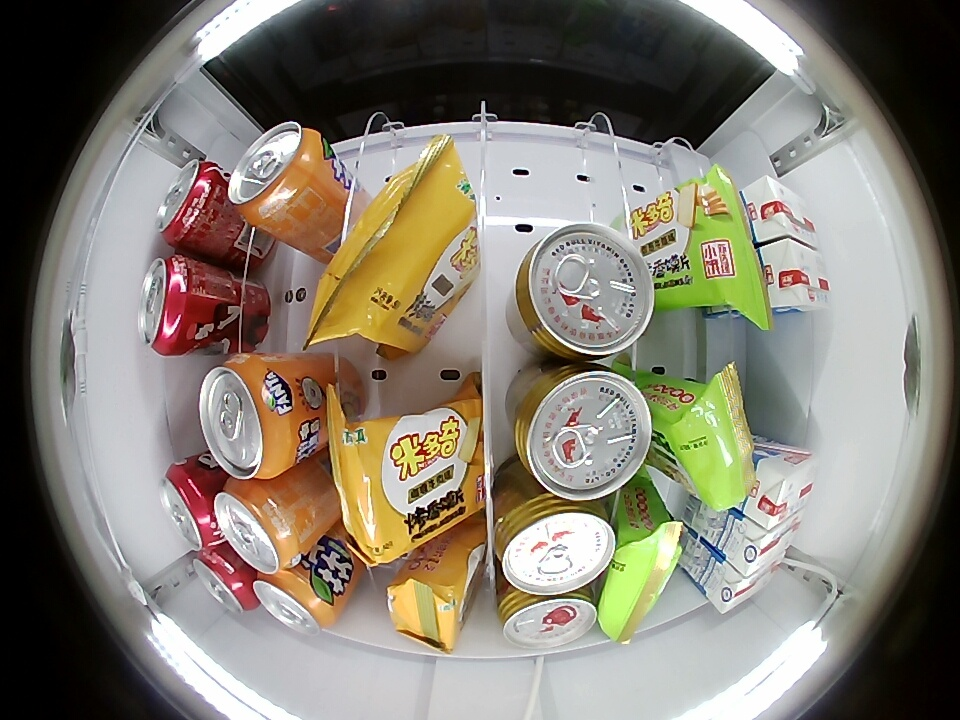fenda: (198, 355, 296, 480), (227, 121, 326, 225), (215, 476, 304, 573), (253, 569, 335, 635)
hongniu: (497, 587, 598, 650)
hongniu2: (513, 223, 654, 362), (512, 362, 652, 500), (496, 494, 616, 594)
kaomo_gali: (313, 154, 479, 350), (333, 405, 486, 561), (384, 527, 484, 653)
kaomo_xiangcon: (628, 177, 769, 315), (647, 375, 754, 509), (599, 489, 684, 640)
kele: (137, 255, 196, 357), (155, 159, 223, 245), (158, 462, 220, 552), (190, 548, 258, 614)
niunai: (743, 443, 819, 531), (744, 175, 820, 251), (760, 236, 831, 312), (727, 510, 803, 578), (705, 558, 780, 614)
